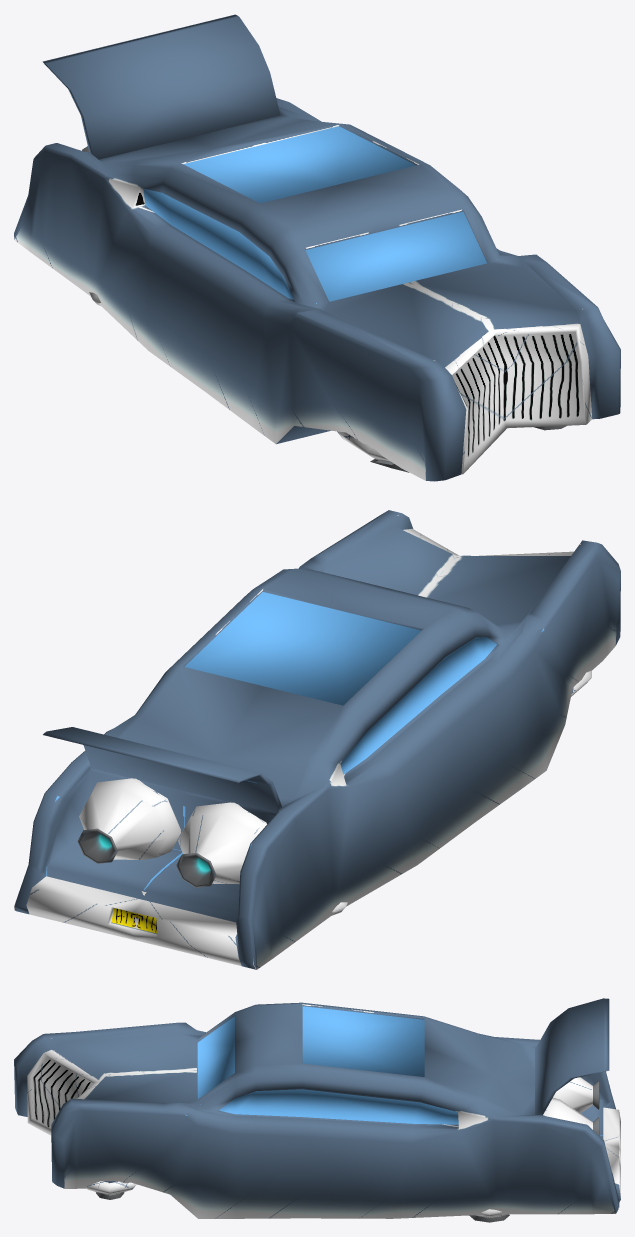
File: carFrontEndDamage.fbx
The picture shows the model from 3 angles, top to bottom: view 1: azimuth 30°, elevation 25°; view 2: azimuth 150°, elevation 25°; view 3: azimuth 270°, elevation 25°; orthographic projection. The views are drawn at different scales.
Parts seen in each view (by area): view 1: Cube; view 2: Cube; view 3: Cube, Cube.001.
Boxes of the visible parts, x1,y1,x2,y2 form: Cube: [14, 14, 620, 481]; Cube: [14, 510, 620, 969]; Cube: [14, 998, 620, 1222]; Cube.001: [87, 1181, 136, 1199].
Size of the model in its own units: 3.32 by 2.4 by 8.63.
